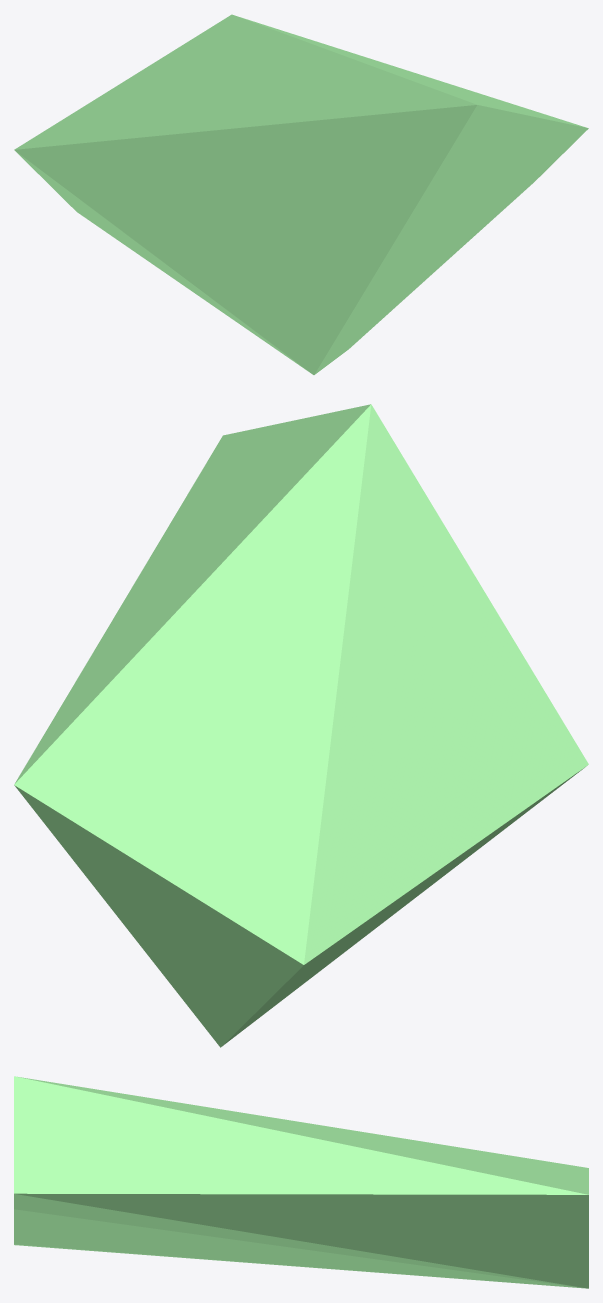
Rendered from UMIRobot_UMIRobot_link_2_convex_coll_11.dae.
3 views of the same model, one above another, from view 1: azimuth 30°, elevation 25°; view 2: azimuth 150°, elevation 25°; view 3: azimuth 270°, elevation 25° (orthographic). The views are drawn at different scales.
Parts seen in each view (by area): view 1: node; view 2: node; view 3: node.
Part boxes in pixels (x1,y1,x2,y2): node: (14,14,588,374); node: (14,404,588,1047); node: (14,1076,588,1288).
Bounding box in the file's own units: 0.01 × 0.00782 × 0.014.
